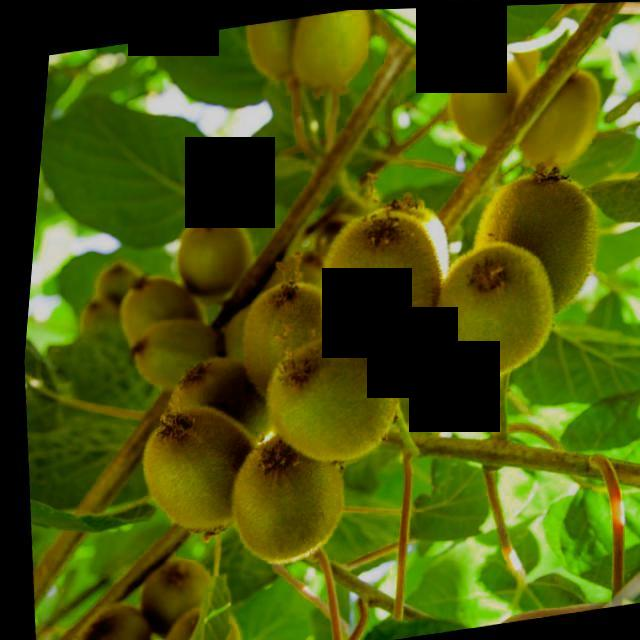kiwi: (305, 203, 454, 381), (454, 166, 608, 338), (252, 328, 407, 472), (131, 399, 276, 549), (421, 234, 562, 387), (221, 427, 359, 570), (228, 269, 346, 417), (151, 346, 278, 458), (108, 267, 214, 388), (159, 206, 257, 313), (122, 312, 239, 401), (136, 553, 232, 640), (151, 598, 253, 640), (62, 596, 159, 640)
